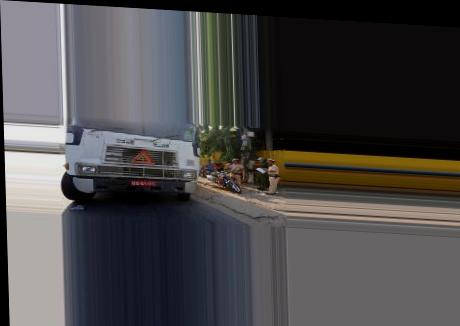License_Plate: (130, 176, 159, 191)
